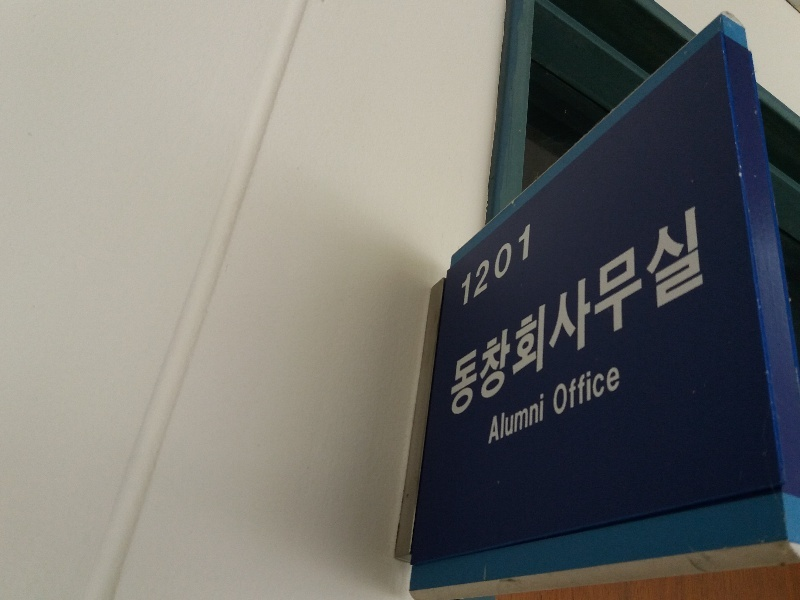text: (689, 205, 705, 423), (465, 205, 480, 423), (481, 205, 496, 423), (497, 205, 512, 423), (513, 205, 528, 423), (529, 205, 544, 423), (545, 205, 560, 423), (561, 205, 576, 423), (577, 205, 592, 423), (593, 205, 608, 423), (609, 205, 624, 423), (625, 205, 640, 423), (641, 205, 656, 423), (657, 205, 672, 423), (673, 205, 688, 423), (454, 205, 464, 423), (465, 221, 480, 309), (481, 221, 496, 309), (497, 221, 512, 309), (513, 221, 528, 309), (561, 358, 576, 419), (577, 358, 592, 419), (593, 358, 608, 419), (529, 392, 545, 448), (497, 392, 512, 448), (513, 392, 528, 448), (609, 358, 621, 419), (552, 358, 560, 419), (459, 221, 464, 309), (491, 392, 496, 448), (529, 221, 532, 309)
